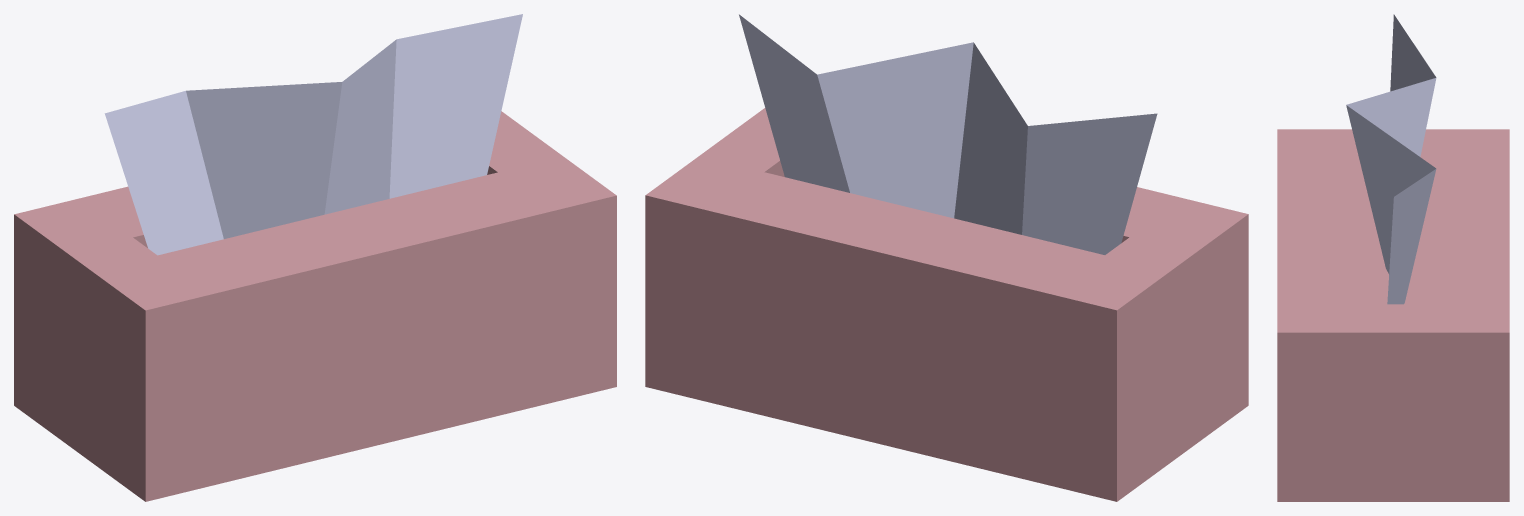
Rendered from TissueBox_geo.fbx.
3 renders of one model, left to right at view 1: azimuth 30°, elevation 25°; view 2: azimuth 150°, elevation 25°; view 3: azimuth 270°, elevation 25°, orthographic. The views are drawn at different scales.
Visible parts, largest first — view 1: TissueBox_geo; view 2: TissueBox_geo; view 3: TissueBox_geo.
Boxes of the visible parts, x1,y1,x2,y2 form: TissueBox_geo: (14, 14, 616, 501); TissueBox_geo: (645, 14, 1248, 501); TissueBox_geo: (1277, 14, 1509, 501).
Size of the model in its own units: 0.564 by 0.2724 by 0.3822.
